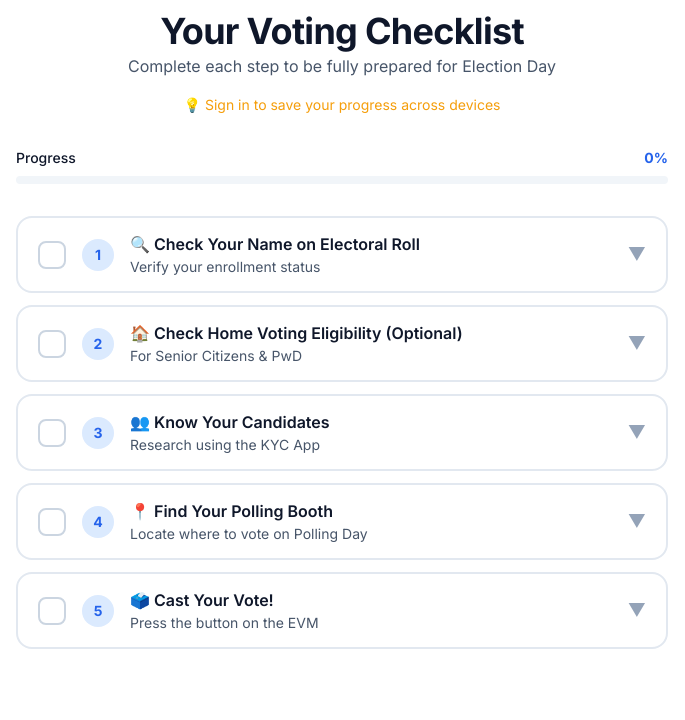
Test case: VotingChecklist › expands a checklist item on click
This screenshot has width=685, height=720.
What coordinates should you click on to do the following:
click the button with aria-label "Step 1: Check Your Name on Electoral Roll"
I would click on:
 (342, 254)
Its box is [18, 218, 666, 291].
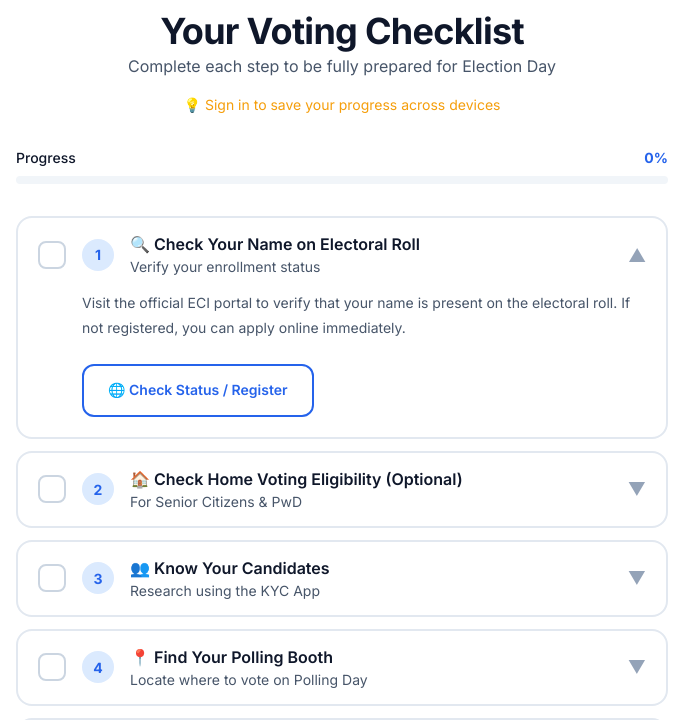
Result: the button with aria-label "Step 1: Check Your Name on Electoral Roll" is expanded at [18, 218, 666, 291]
